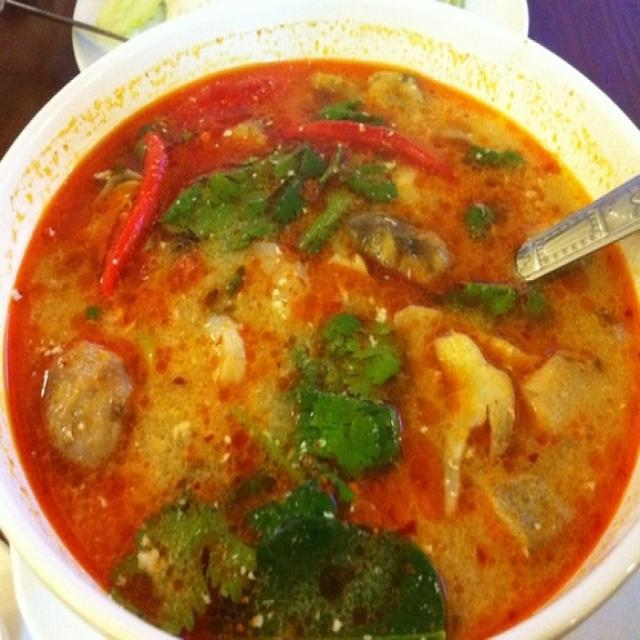汤锅炖物: (21, 27, 623, 628)
